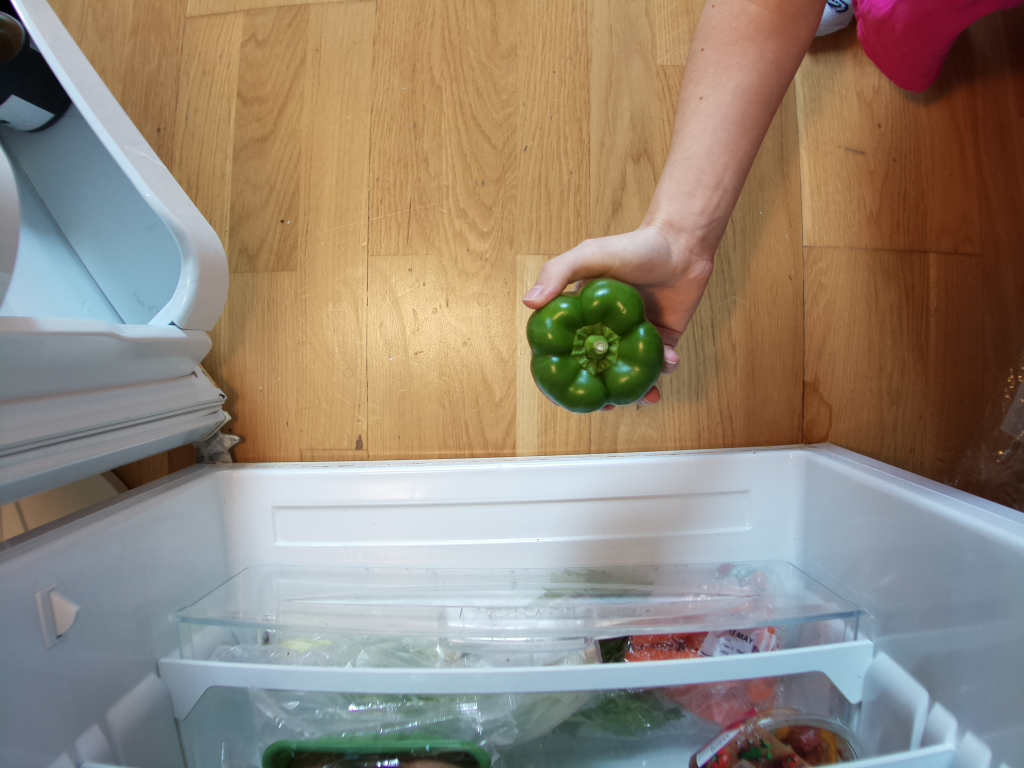pepper: (525, 277, 664, 412)
